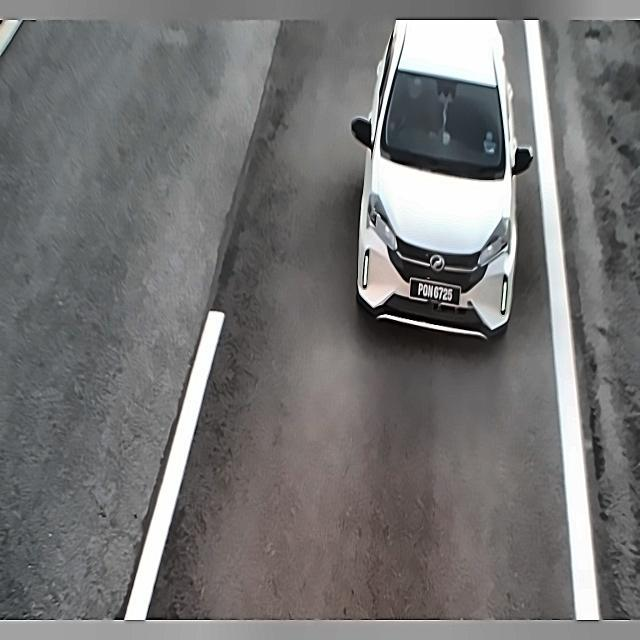car: (407, 268, 464, 309)
